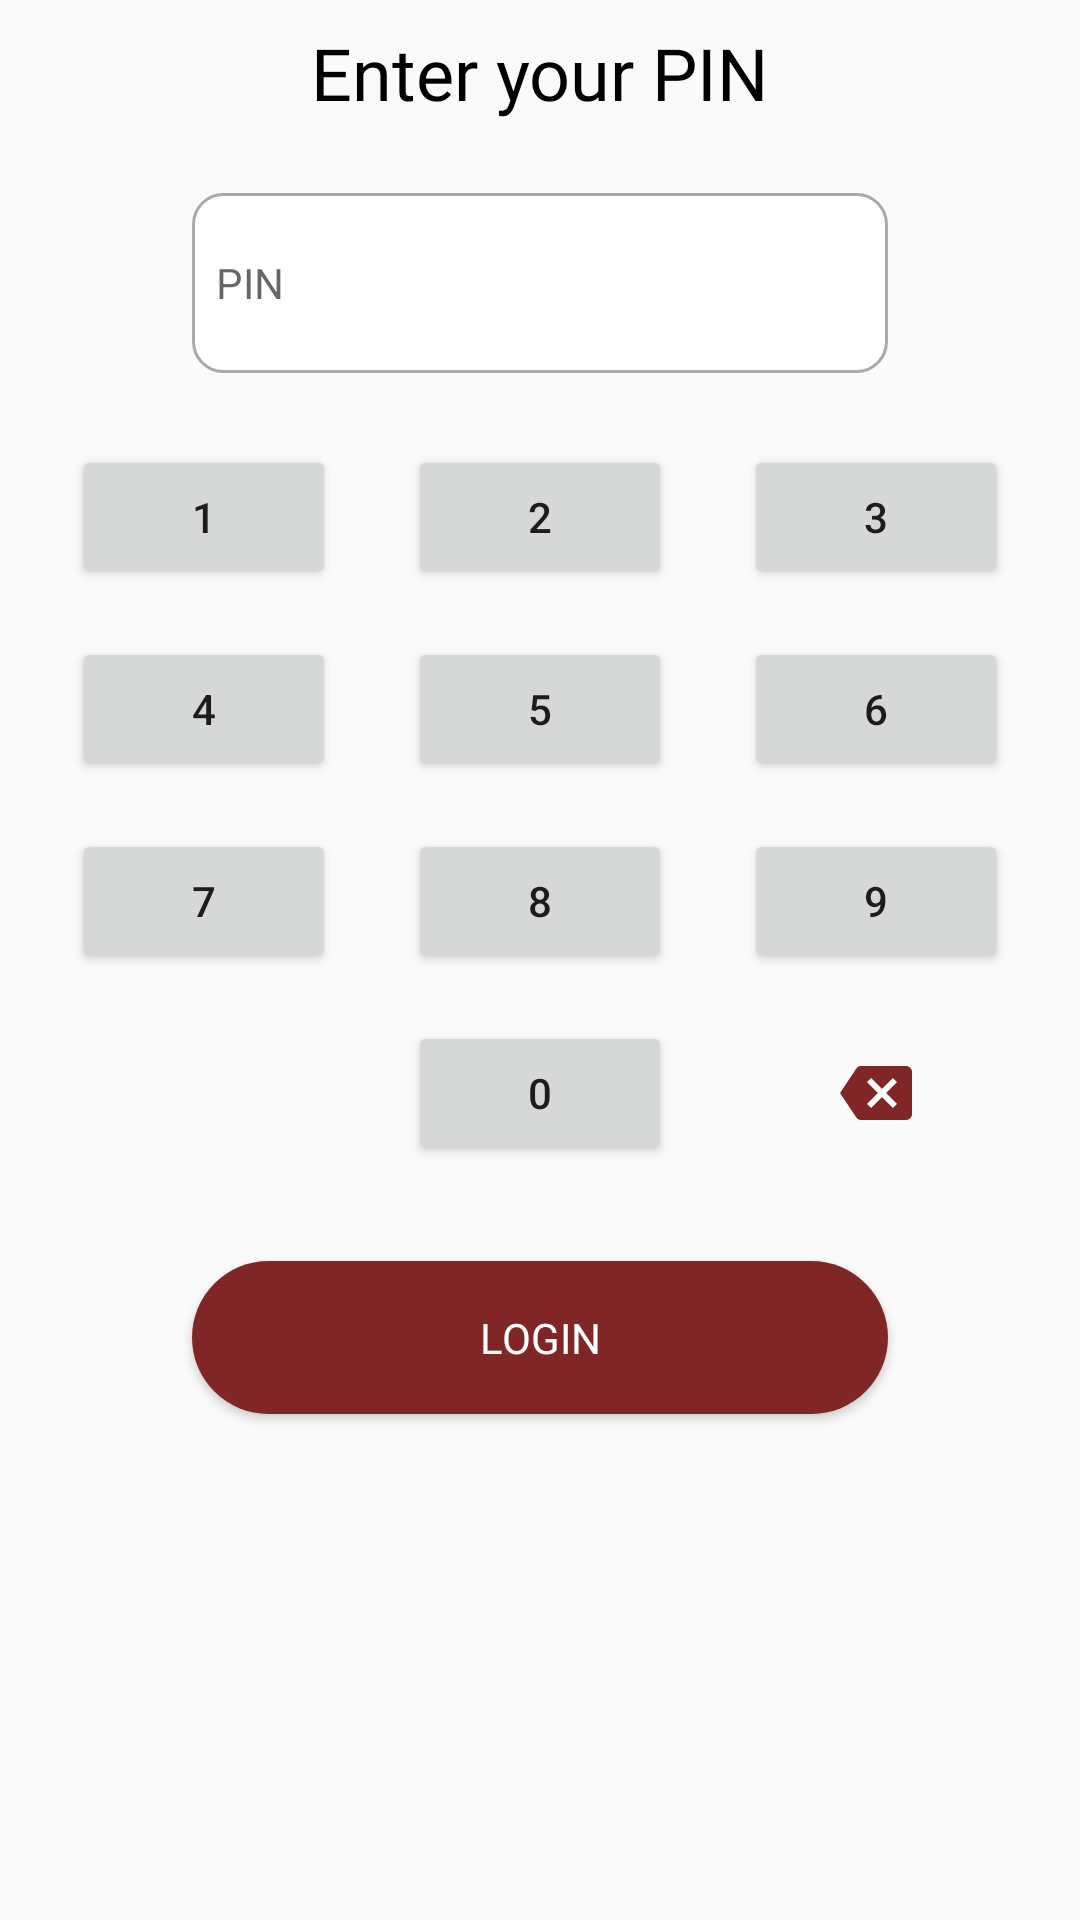

Icons on this 1080 x 1920 Android screen, each with its box as (x1, y1, x2, y2):
backspace: (840, 1066, 912, 1120)
